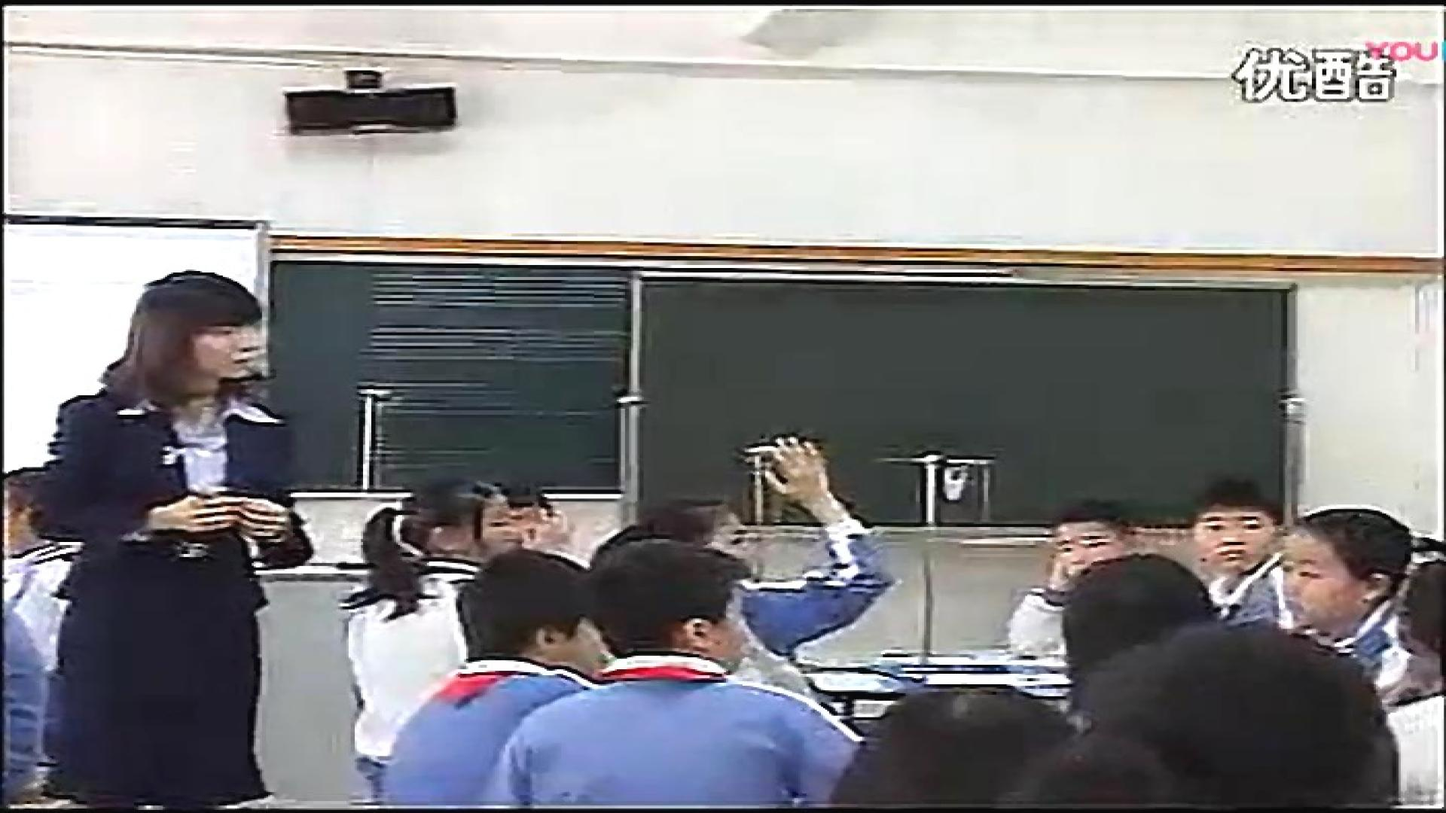Stand Up: (50, 243, 294, 813)
Wave: (777, 439, 860, 618)
